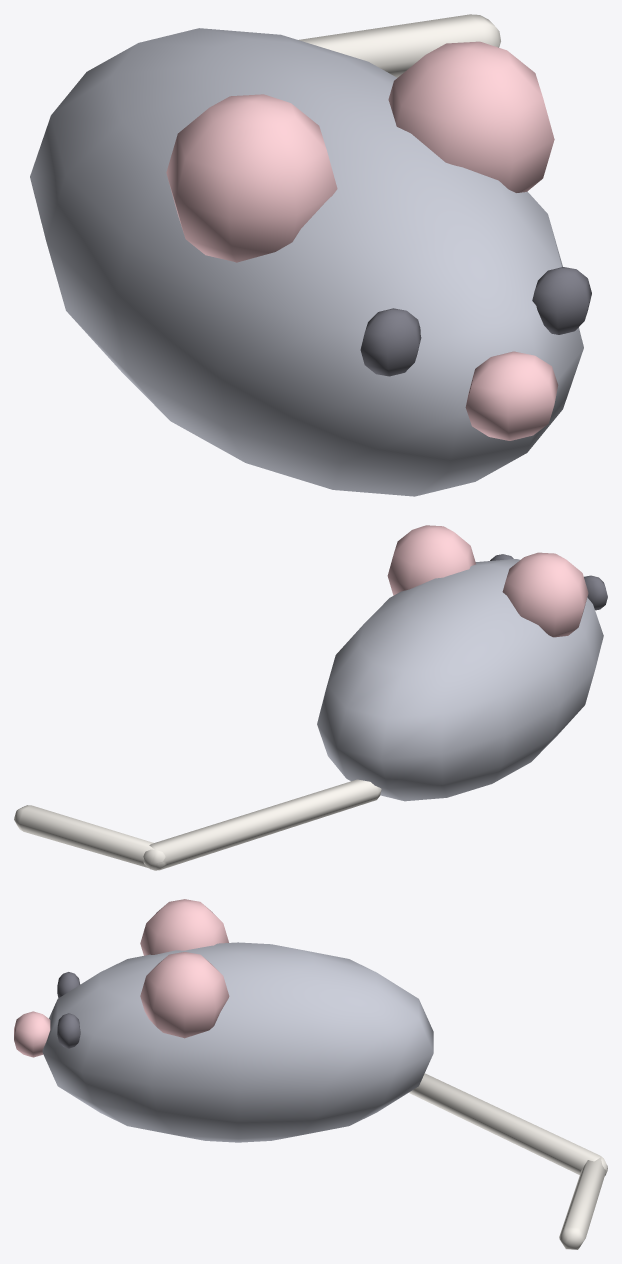
The model's file is companion-animals-and-pet-home-toy-mouse-c9783389__20653.glb.
The picture shows the model from 3 angles, top to bottom: view 1: azimuth 30°, elevation 25°; view 2: azimuth 150°, elevation 25°; view 3: azimuth 270°, elevation 25°; orthographic projection. The views are drawn at different scales.
Parts seen in each view (by area): view 1: toy-mouse; view 2: toy-mouse; view 3: toy-mouse.
Boxes of the visible parts, x1=… form: toy-mouse: x1=30, y1=14, x2=591, y2=496; toy-mouse: x1=14, y1=525, x2=607, y2=870; toy-mouse: x1=14, y1=899, x2=607, y2=1249.
Size of the model in its own units: 0.093 by 0.05 by 0.1333.
